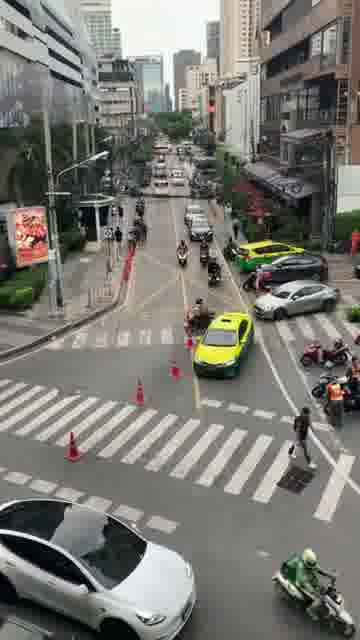bike: (271, 564, 356, 638), (310, 361, 359, 399), (299, 335, 350, 367), (322, 378, 359, 416), (183, 305, 216, 337), (242, 270, 274, 292), (207, 262, 221, 288), (223, 242, 239, 261), (175, 244, 187, 268), (199, 245, 208, 268), (189, 185, 197, 199)
car: (0, 496, 197, 640), (192, 311, 254, 379), (253, 278, 339, 321), (251, 253, 328, 285), (239, 238, 310, 271), (187, 215, 213, 242), (183, 203, 208, 225)
pedestrian: (287, 406, 318, 470), (326, 375, 344, 432), (223, 200, 232, 224), (232, 214, 240, 240), (114, 225, 122, 251), (107, 226, 114, 247), (140, 222, 147, 242), (109, 204, 115, 225), (117, 205, 123, 225)
